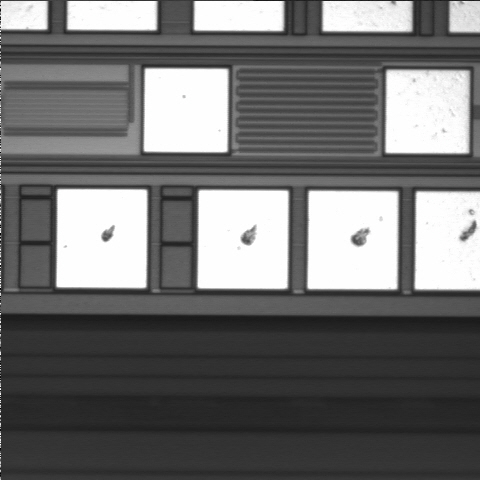pad: (57, 189, 147, 288), (198, 190, 288, 289), (308, 191, 398, 289), (144, 69, 228, 152), (386, 70, 469, 153)
